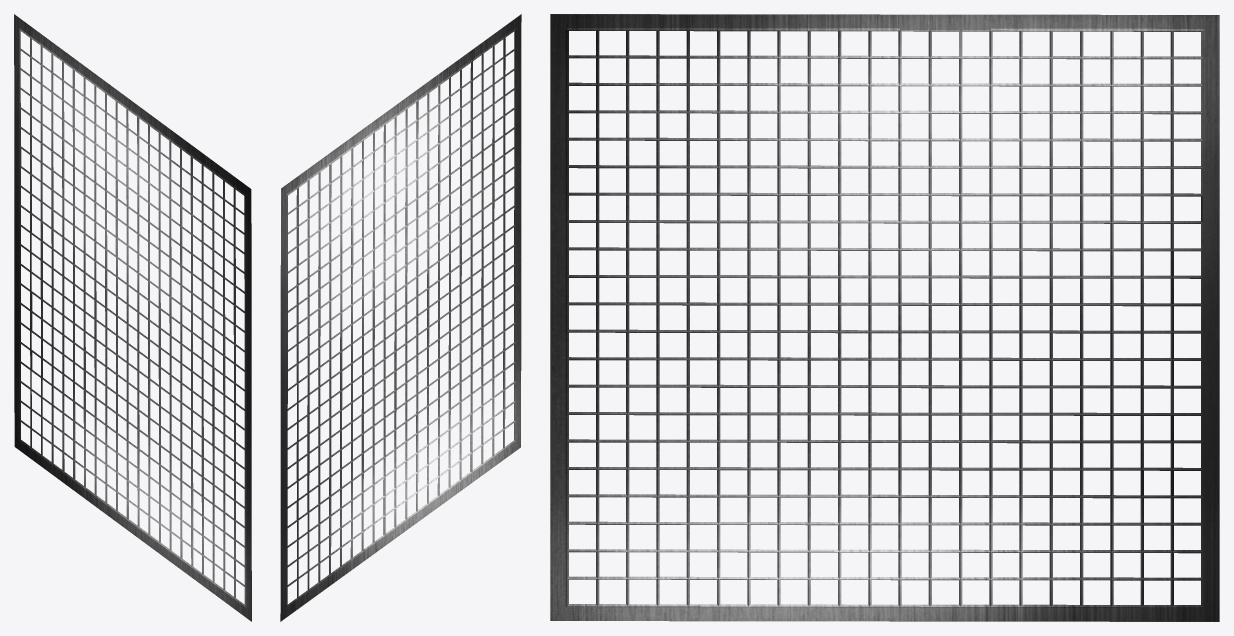
The model's file is reja.obj.
3 views of the same model, side by side, from view 1: azimuth 30°, elevation 25°; view 2: azimuth 150°, elevation 25°; view 3: azimuth 270°, elevation 25° (orthographic). The views are drawn at different scales.
Visible parts, largest first — view 1: reja.001; view 2: reja.001; view 3: reja.001.
Part boxes in pixels (<box>): reja.001: <box>14,14,251,621</box>; reja.001: <box>280,14,521,621</box>; reja.001: <box>550,14,1219,621</box>.
Size of the model in its own units: 0.0107 by 1.14 by 1.14.
1 material, 1 textured.
